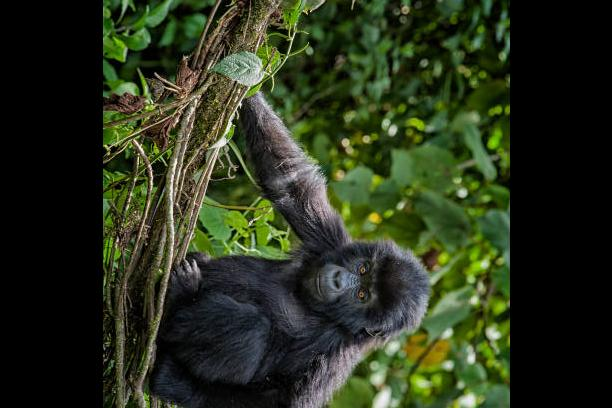goriile_montagne: (148, 148, 434, 408)
